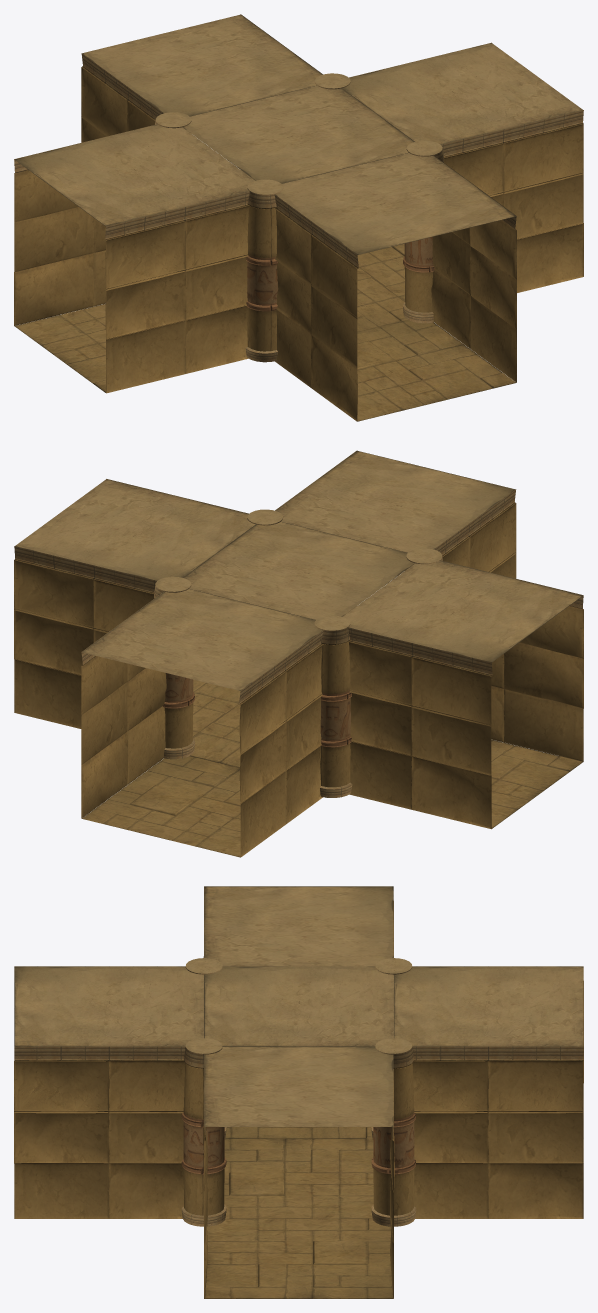
The model's file is m_Cross01.FBX.
3 views of the same model, one above another, from view 1: azimuth 30°, elevation 25°; view 2: azimuth 150°, elevation 25°; view 3: azimuth 270°, elevation 25° (orthographic). The views are drawn at different scales.
Parts seen in each view (by area): view 1: m_Cross01; view 2: m_Cross01; view 3: m_Cross01.
Boxes of the visible parts, x1,y1,x2,y2 form: m_Cross01: [14, 14, 583, 421]; m_Cross01: [14, 450, 583, 857]; m_Cross01: [14, 886, 583, 1298].
Bounding box in the file's own units: 301 × 301 × 100.
1 material, 1 textured.
